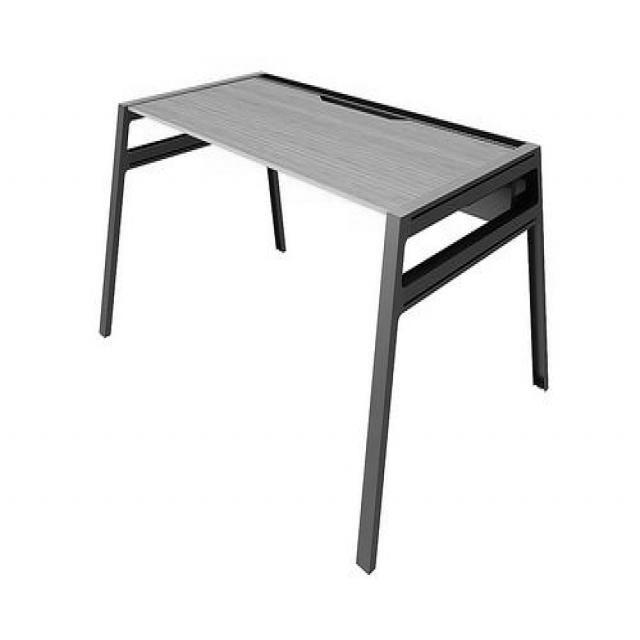table: (99, 73, 548, 572)
